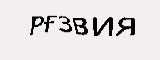В: (72, 15, 88, 38)
З: (58, 15, 72, 33)
И: (91, 15, 114, 38)
Р: (27, 14, 44, 35)
Я: (113, 16, 137, 38)
Ғ: (42, 14, 58, 35)
